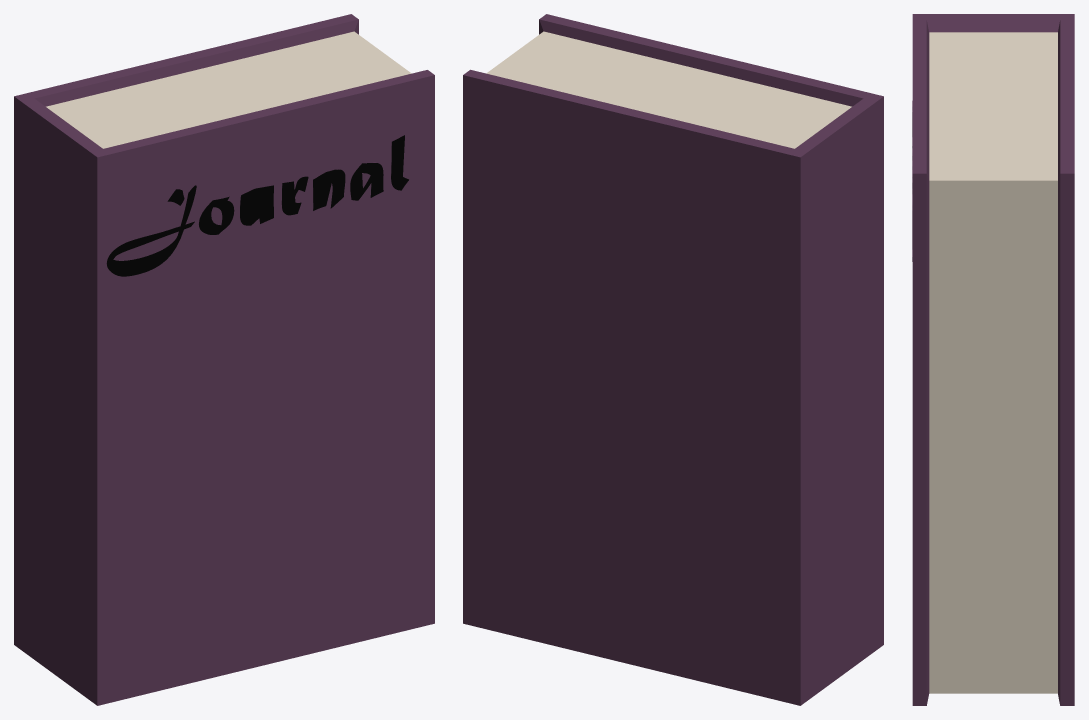
Rendered from Journal2.fbx.
3 renders of one model, left to right at view 1: azimuth 30°, elevation 25°; view 2: azimuth 150°, elevation 25°; view 3: azimuth 270°, elevation 25°, orthographic. The views are drawn at different scales.
Visible parts, largest first — view 1: Journal2; view 2: Journal2; view 3: Journal2.
Part boxes in pixels (x1,y1,x2,y2): Journal2: [14, 14, 434, 705]; Journal2: [463, 14, 883, 705]; Journal2: [912, 14, 1074, 705].
Size of the model in its own units: 18.28 by 28.4 by 7.84.
